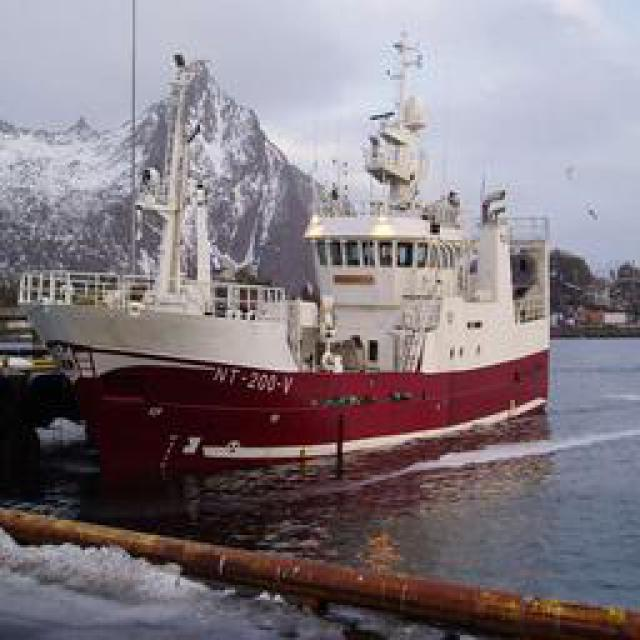Ship: (28, 41, 553, 494)
